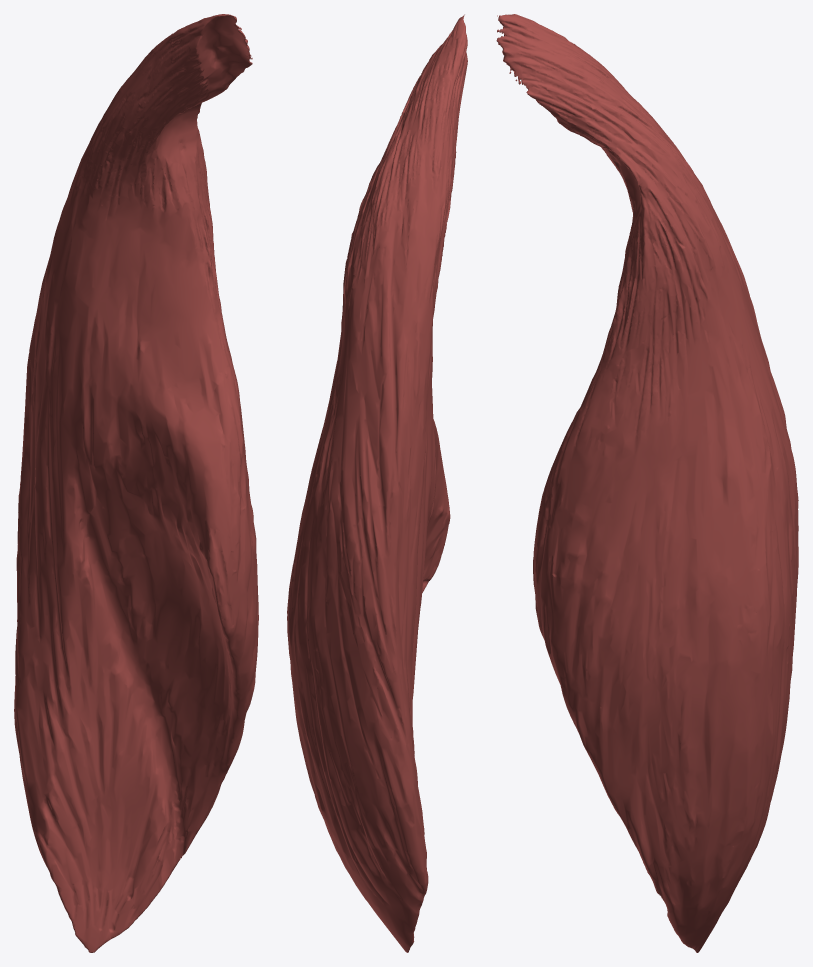
Rendered from FMA45957.glb.
3 renders of one model, left to right at view 1: azimuth 30°, elevation 25°; view 2: azimuth 150°, elevation 25°; view 3: azimuth 270°, elevation 25°, orthographic. The views are drawn at different scales.
Visible parts, largest first — view 1: FMA45957; view 2: FMA45957; view 3: FMA45957.
Boxes of the visible parts, left/top/right/bottom form: FMA45957: left=14, top=14, right=258, bottom=952; FMA45957: left=287, top=14, right=467, bottom=952; FMA45957: left=496, top=14, right=798, bottom=952.
Bounding box in the file's own units: 0.0495 × 0.2902 × 0.0833.
